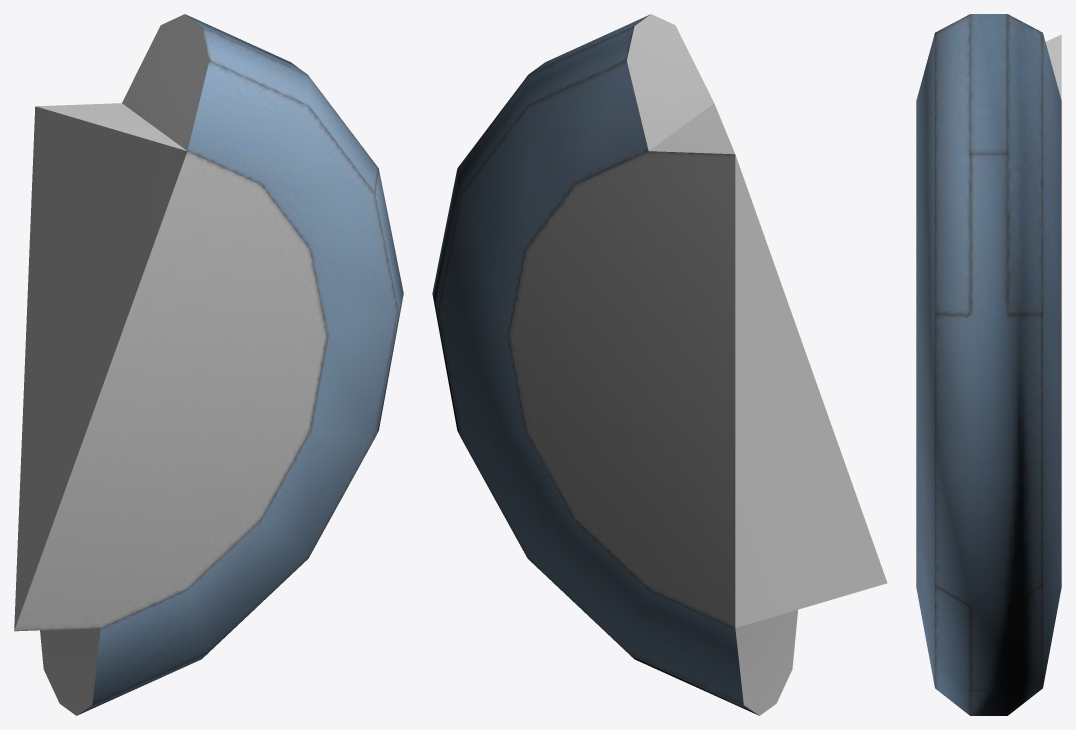
File: targetShard0.obj
The picture shows the model from 3 angles, left to right: view 1: azimuth 30°, elevation 25°; view 2: azimuth 150°, elevation 25°; view 3: azimuth 270°, elevation 25°; orthographic projection. The views are drawn at different scales.
Visible parts, largest first — view 1: target; view 2: target; view 3: target.
Boxes of the visible parts, <box> form: target: <box>14,14,403,715</box>; target: <box>432,14,887,715</box>; target: <box>916,14,1061,715</box>.
Size of the model in its own units: 50.14 by 76.27 by 13.76.
Materials: 1 (1 with a texture image).
